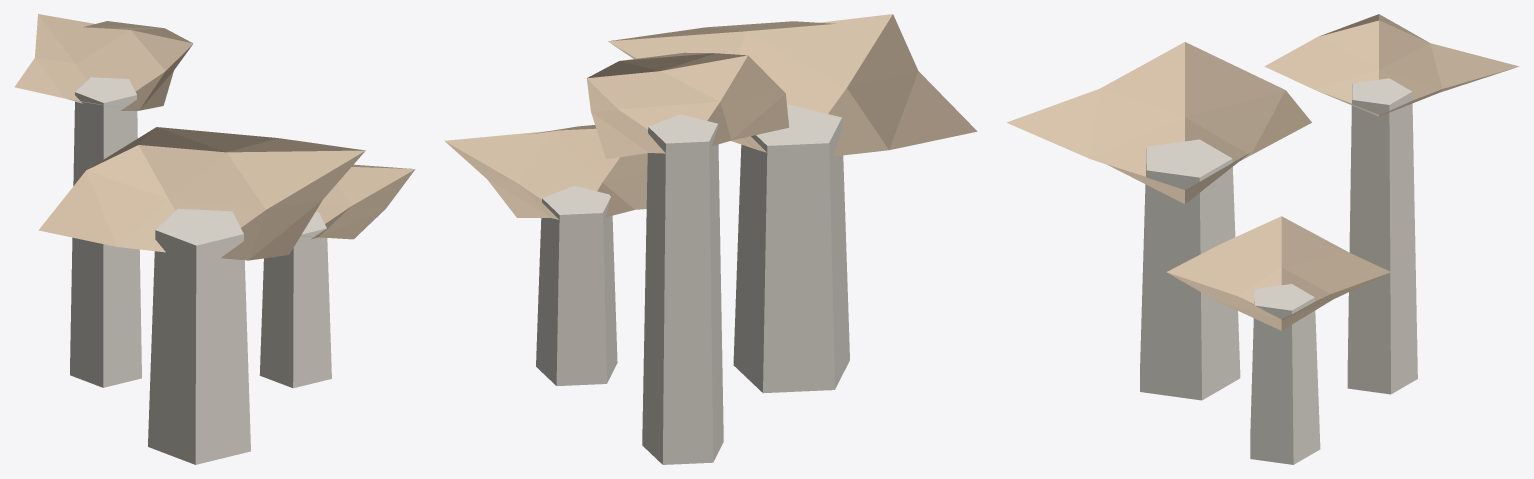
Rendered from mushroom_v21.glb.
The picture shows the model from 3 angles, left to right: view 1: azimuth 30°, elevation 25°; view 2: azimuth 150°, elevation 25°; view 3: azimuth 270°, elevation 25°; orthographic projection. The views are drawn at different scales.
Visible parts, largest first — view 1: lod0; view 2: lod0; view 3: lod0.
Boxes of the visible parts, x1=… form: lod0: x1=14, y1=14, x2=415, y2=464; lod0: x1=444, y1=14, x2=977, y2=464; lod0: x1=1006, y1=14, x2=1519, y2=464.
Size of what is drawn, in the model's own units: 0.5349 by 0.4223 by 0.5508.
